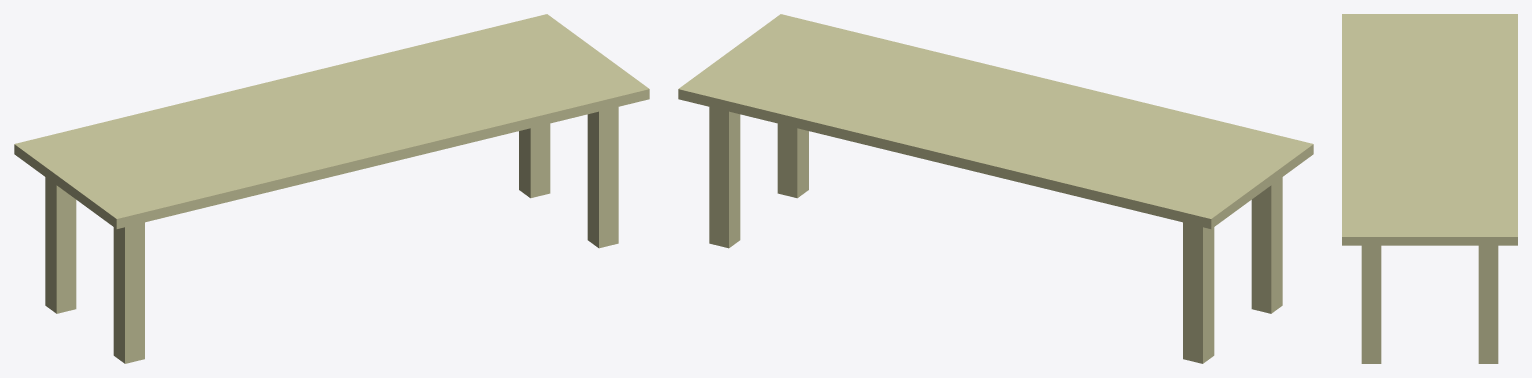
Rendered from Table.fbx.
The picture shows the model from 3 angles, left to right: view 1: azimuth 30°, elevation 25°; view 2: azimuth 150°, elevation 25°; view 3: azimuth 270°, elevation 25°; orthographic projection. The views are drawn at different scales.
Visible parts, largest first — view 1: Table; view 2: Table; view 3: Table.
Part boxes in pixels (<box>): Table: <box>14,14,649,363</box>; Table: <box>678,14,1313,363</box>; Table: <box>1342,14,1517,363</box>.
Size of the model in its own units: 303 by 85.75 by 101.
